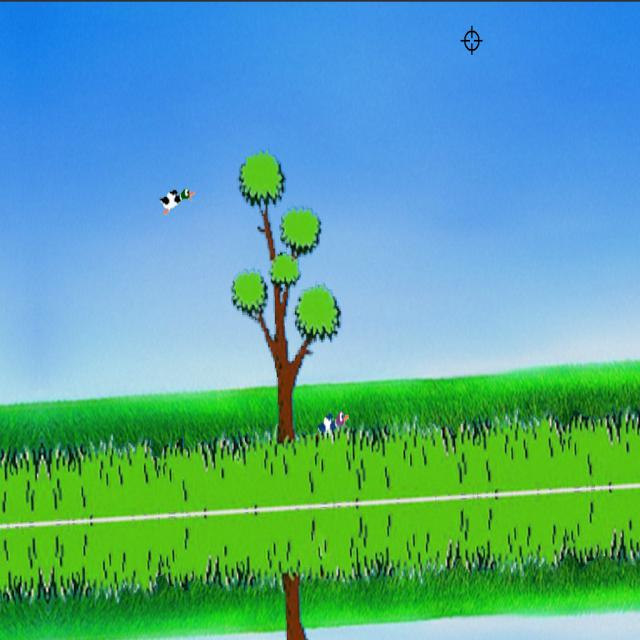duck: (153, 178, 197, 219), (316, 406, 352, 434)
